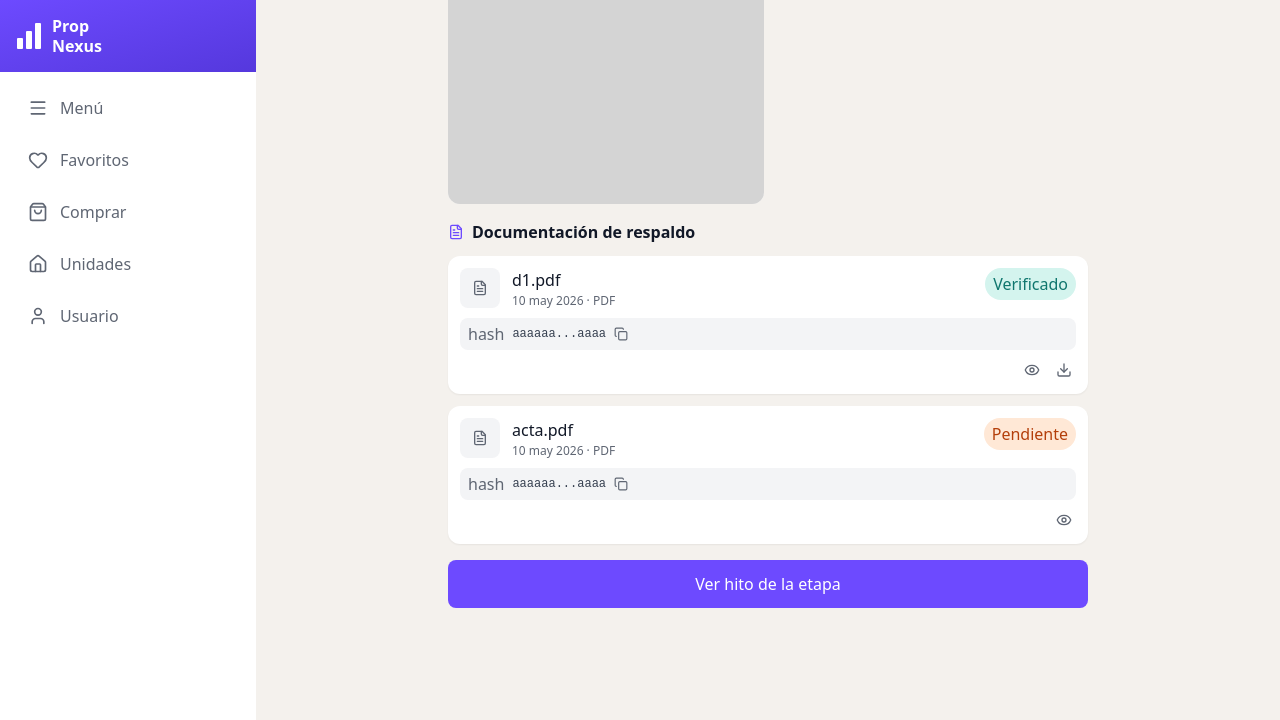
Test: /project/:projectId/stage/:stageId (investor) › el hito de la etapa (bundle y Merkle) › el chip del TXID del bundle abre el modal con su TXID, y se cierra
The image size is (1280, 720).
(page scrolled)
Click the button "Ver hito de la etapa" at (768, 584), box x1=448 y1=560 x2=1088 y2=608
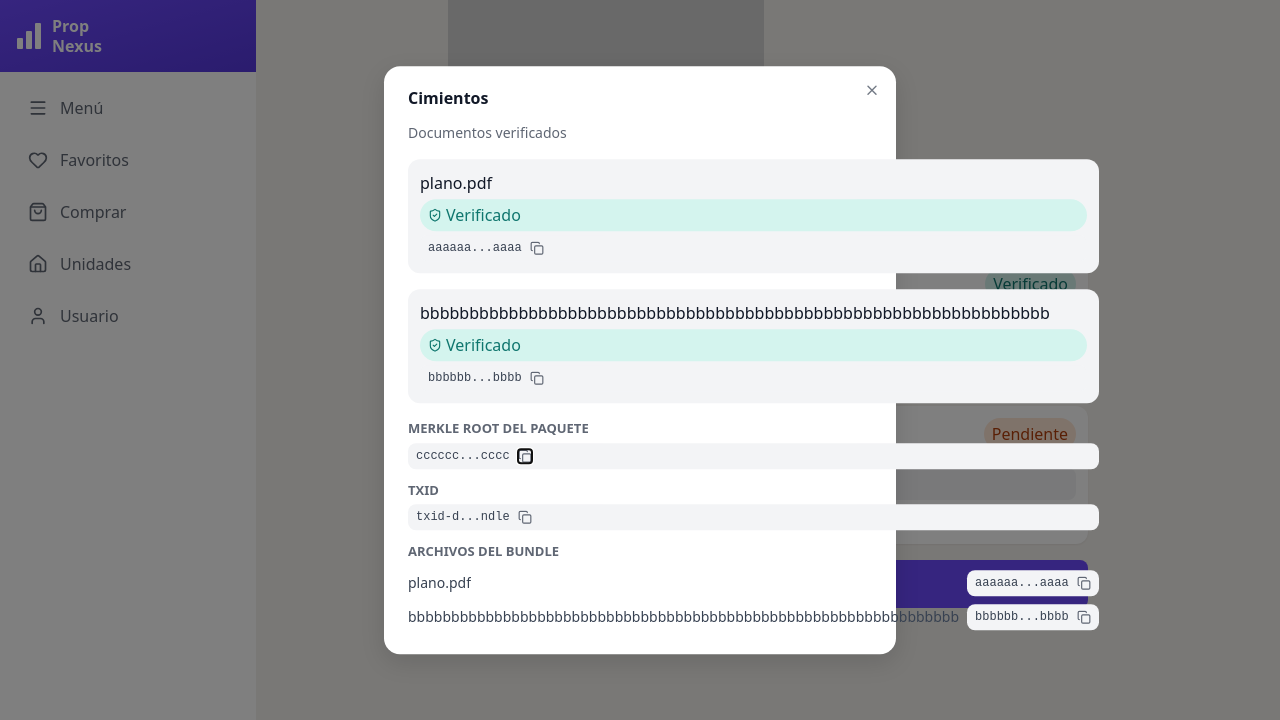
Click the button "txid-d...ndle" at (463, 517), box x1=416 y1=508 x2=510 y2=526
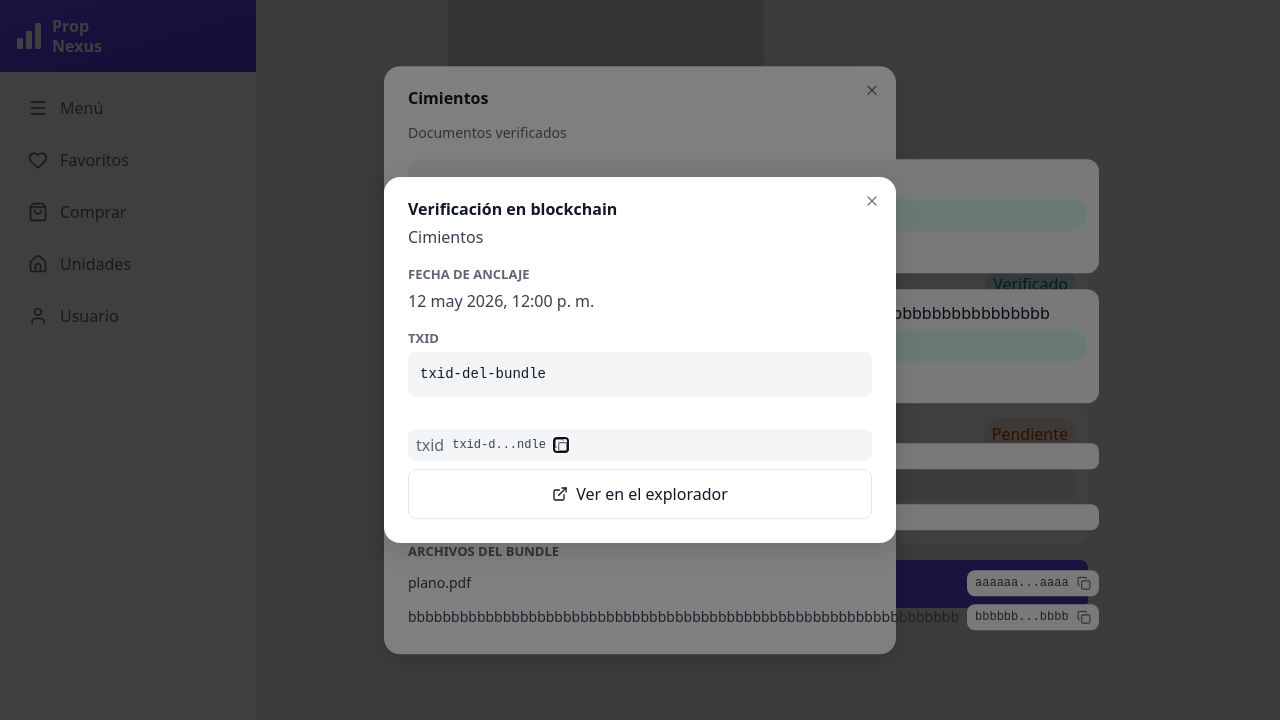
expect the heading "Verificación en blockchain" is shown: met, box x1=408 y1=198 x2=617 y2=220
Press Escape in the button named "Copiar", box x1=554 y1=438 x2=568 y2=452
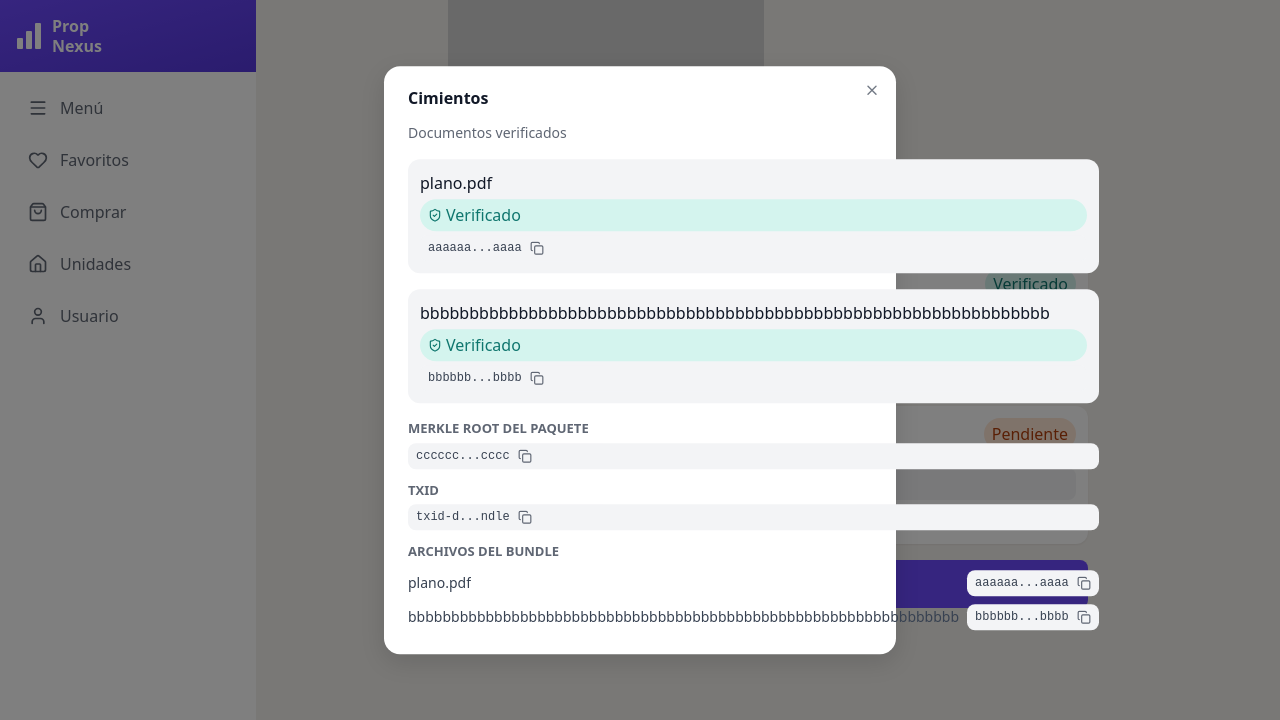
expect the heading "Verificación en blockchain" is gone: met
